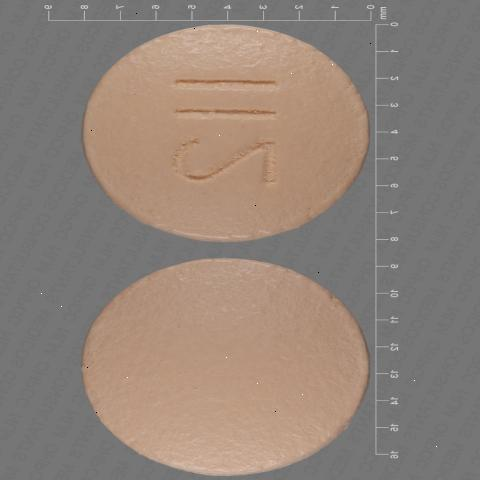Pill: (76, 22, 403, 249), (67, 253, 393, 478)
